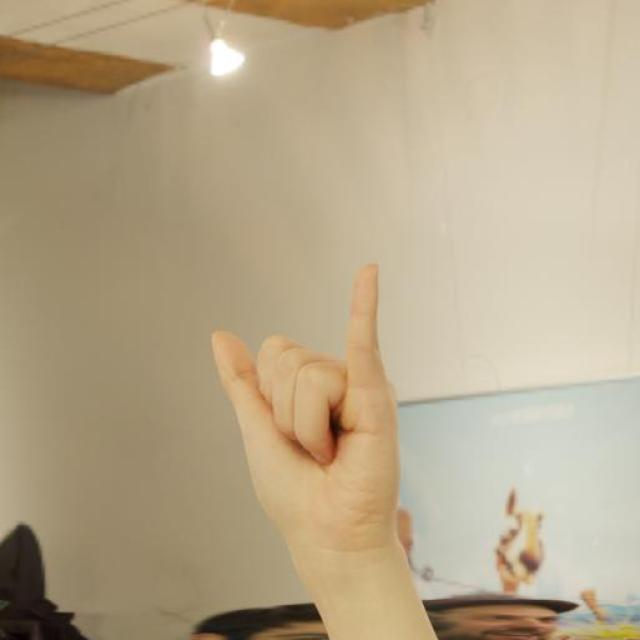Y: (206, 259, 408, 562)
